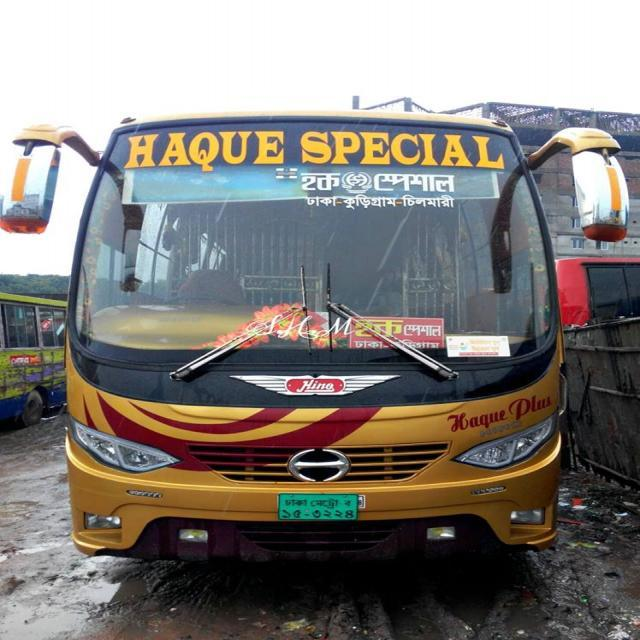bus: (0, 106, 631, 565)
